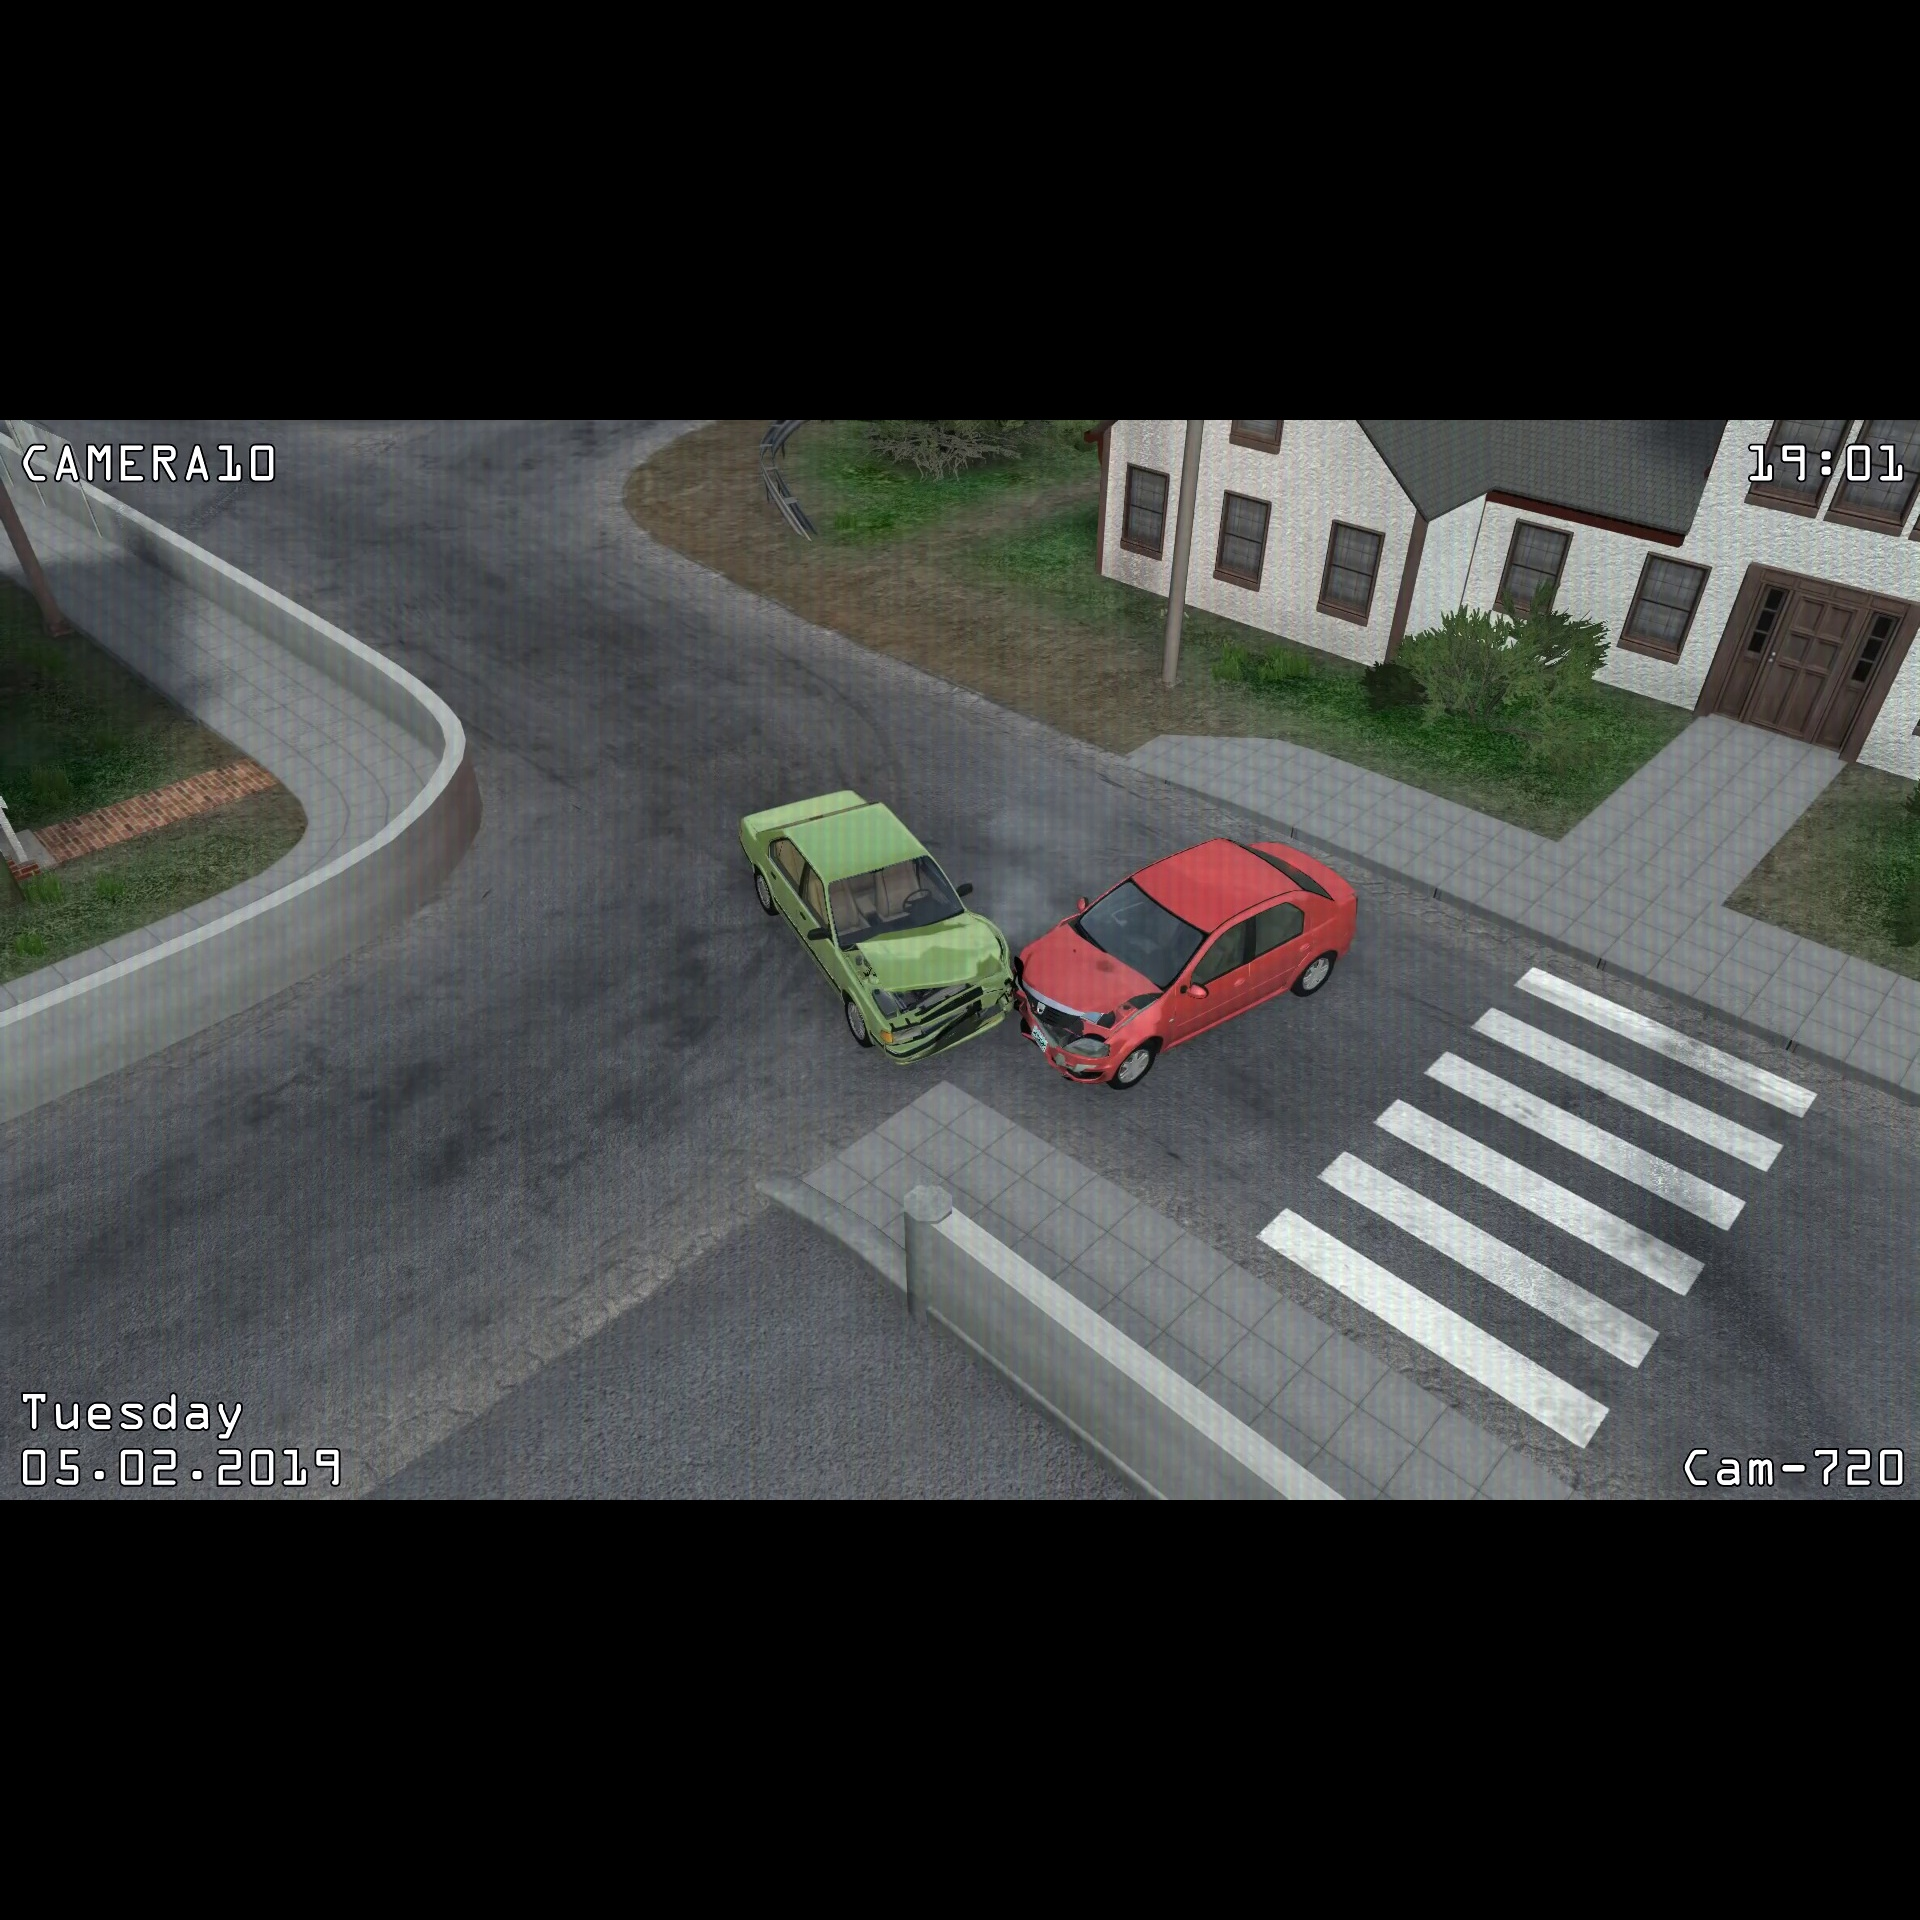vehicle: (1011, 823, 1364, 1101), (730, 779, 1015, 1073)
